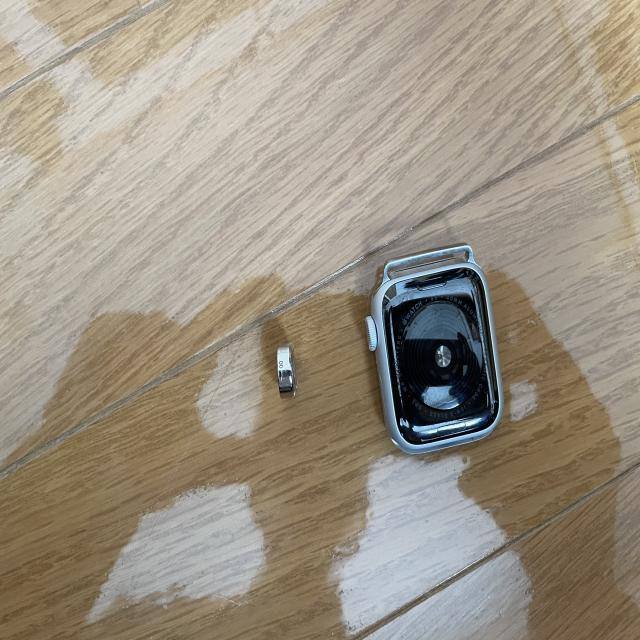COIN: (275, 346, 297, 398)
